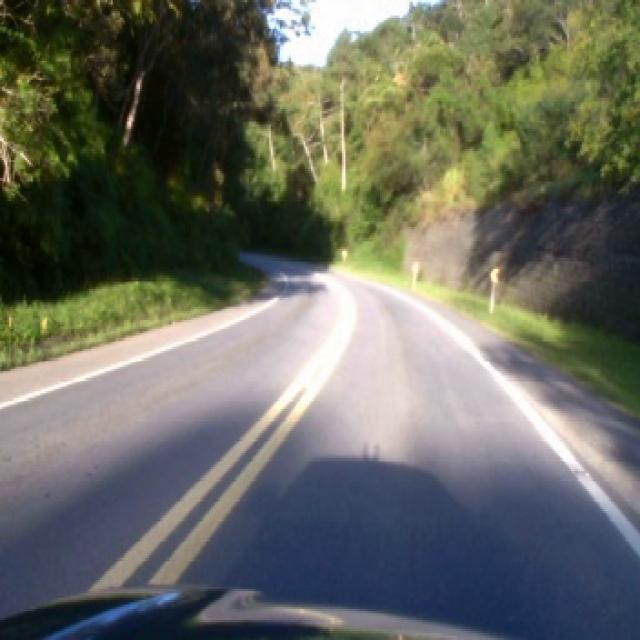Poth-hole: (571, 466, 589, 474)
